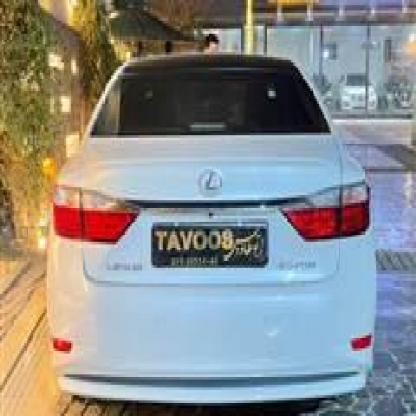Car: (38, 36, 388, 416)
